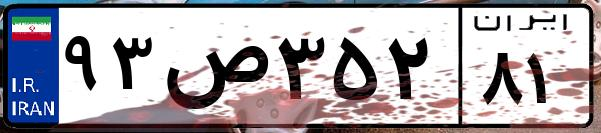1: (525, 38, 570, 115)
2: (385, 28, 445, 110)
3: (270, 28, 330, 110), (110, 28, 158, 98)
5: (330, 28, 385, 110)
8: (475, 38, 525, 113)
9: (57, 26, 110, 100)
ص: (158, 20, 270, 120)
